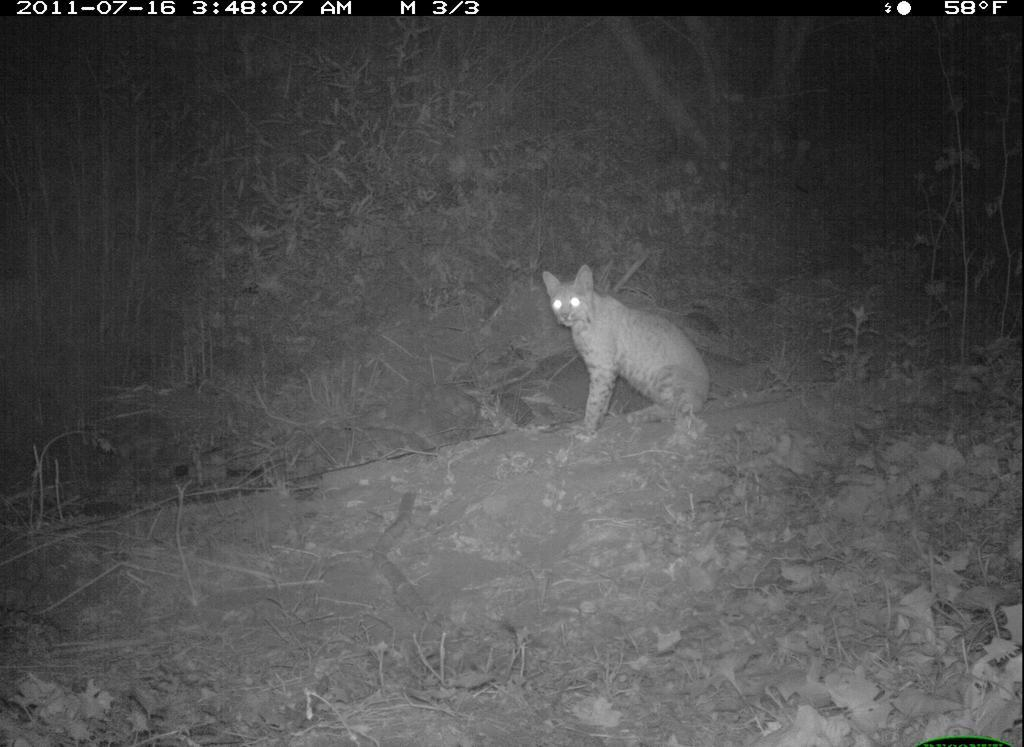bobcat: (520, 258, 743, 447)
